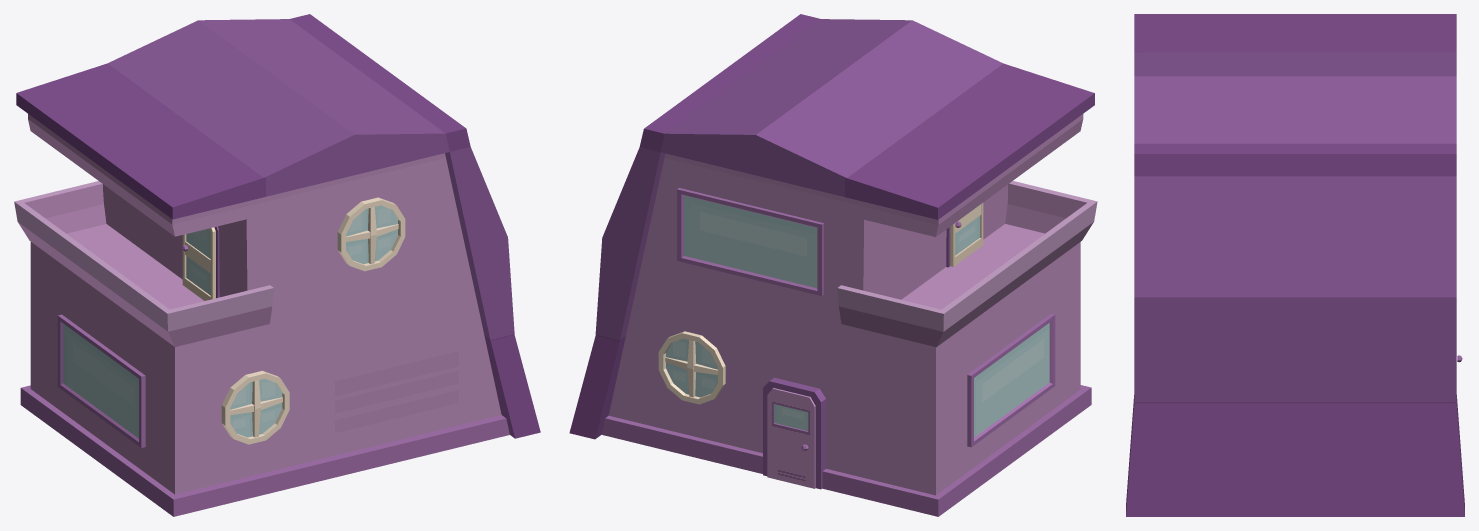
File: W.H_purple.fix.gltf
3 renders of one model, left to right at view 1: azimuth 30°, elevation 25°; view 2: azimuth 150°, elevation 25°; view 3: azimuth 270°, elevation 25°, orthographic. The views are drawn at different scales.
Visible parts, largest first — view 1: mesh; view 2: mesh; view 3: mesh.
Boxes of the visible parts, left/top/right/bottom form: mesh: left=14, top=14, right=540, bottom=516; mesh: left=569, top=14, right=1097, bottom=516; mesh: left=1126, top=14, right=1464, bottom=516.
Bounding box in the file's own units: 14.79 × 13.03 × 11.45.
1 material, 1 textured.
